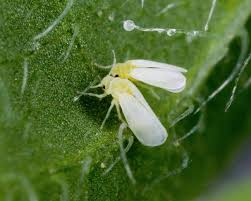Tobacco Whitefly: (93, 75, 169, 154), (108, 53, 193, 94)
